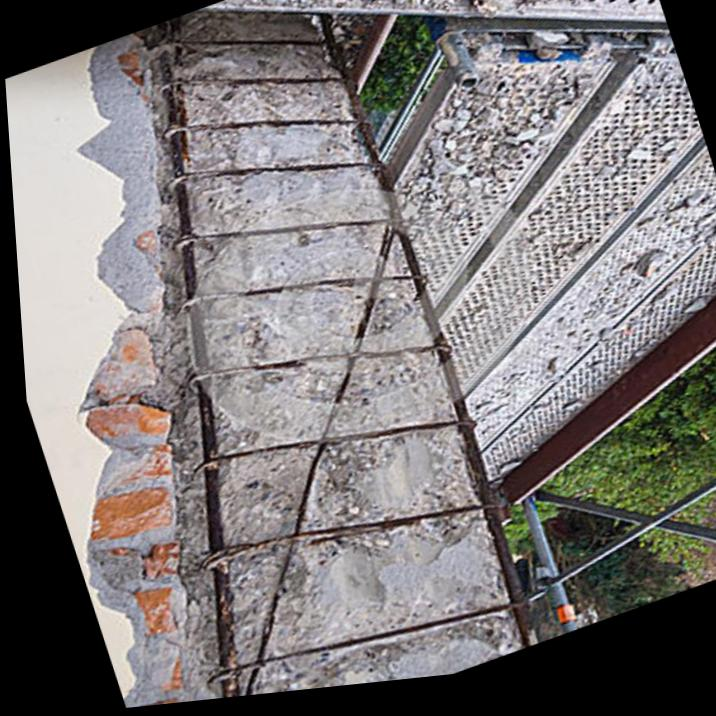damage: (117, 13, 517, 705)
